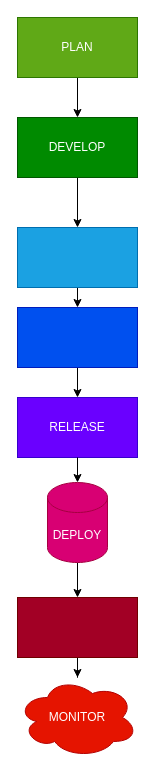
The diagram is 155 pixels wide and 775 high, and some of its shapes have lost their labels. Each missing label, with the box of its shape:
BUUILD: (16, 226, 138, 288)
OPERATE: (16, 596, 138, 658)
TEST: (16, 306, 138, 368)
